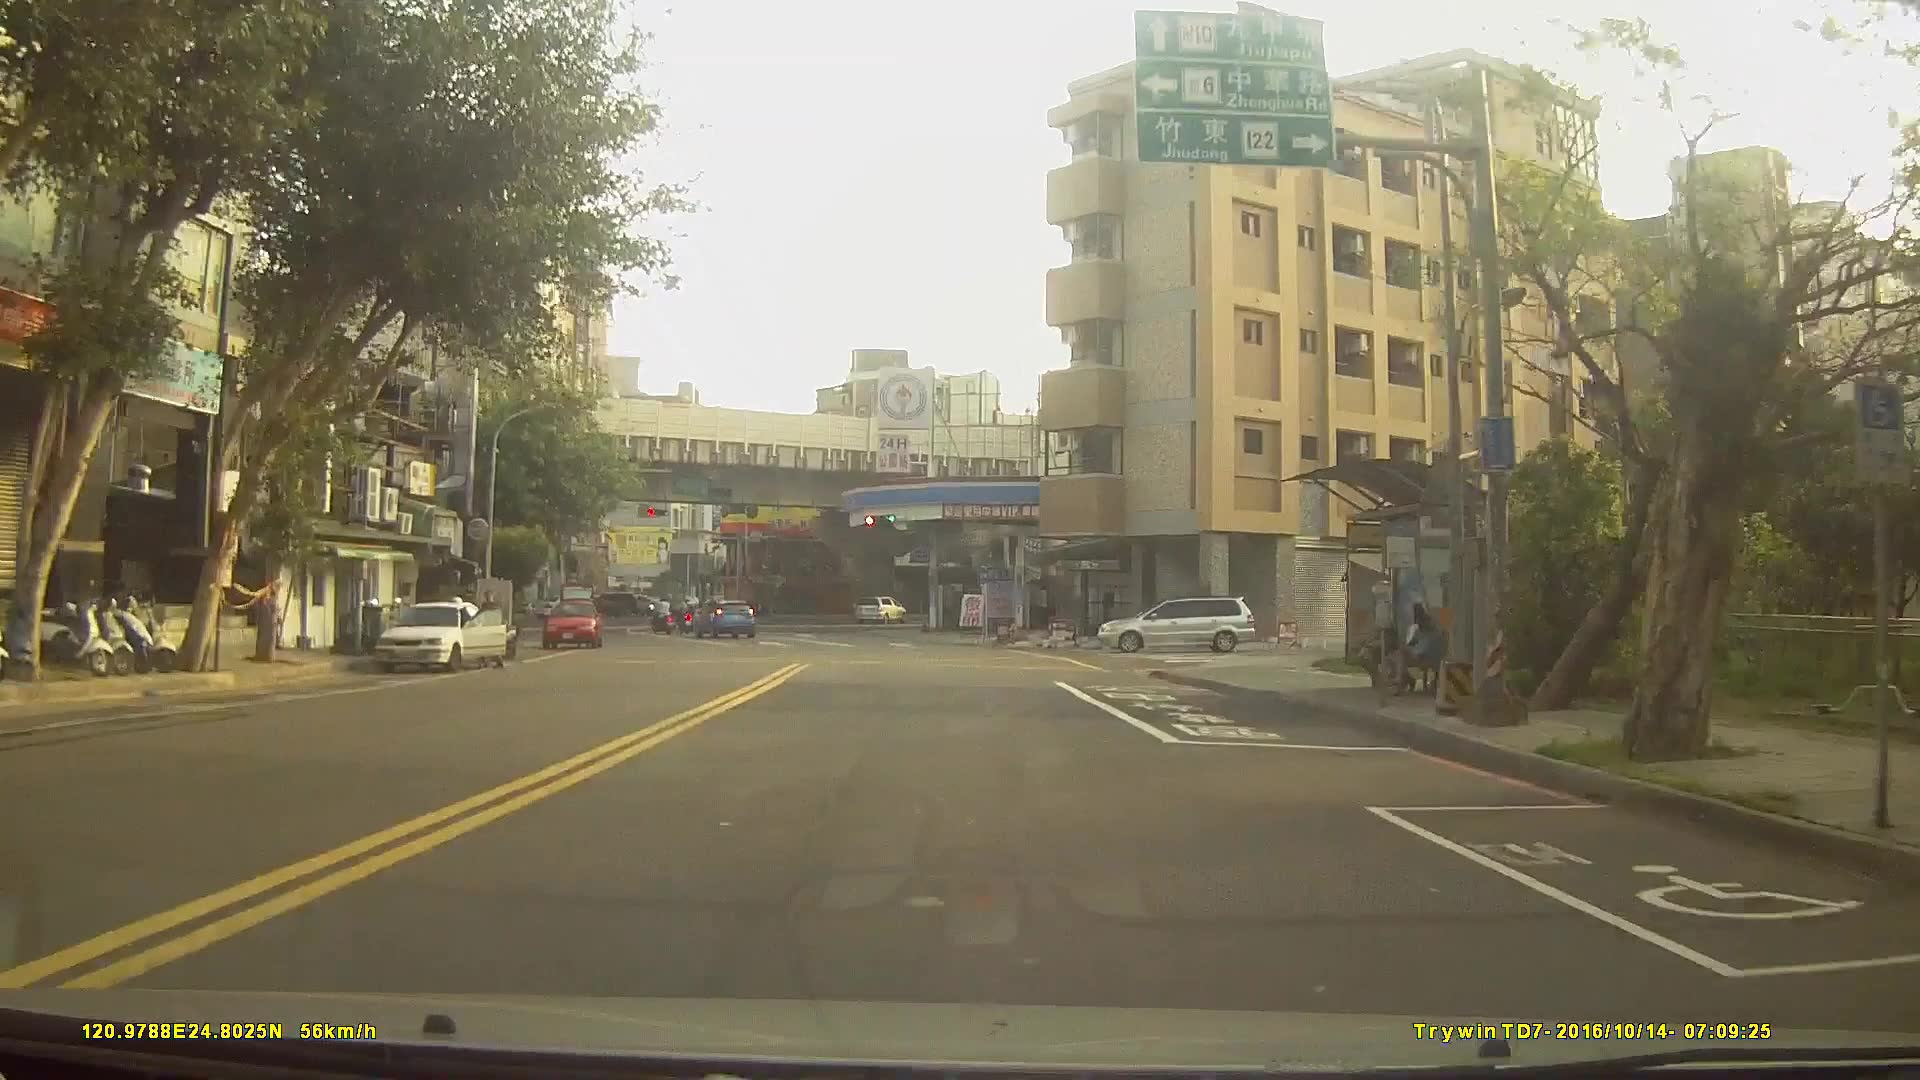pedestrian: (1410, 594, 1434, 699)
rider: (650, 594, 677, 639)
vehicle: (373, 596, 507, 674), (1096, 594, 1256, 653), (542, 596, 604, 648), (689, 596, 757, 639), (580, 589, 637, 619), (851, 595, 905, 624)
